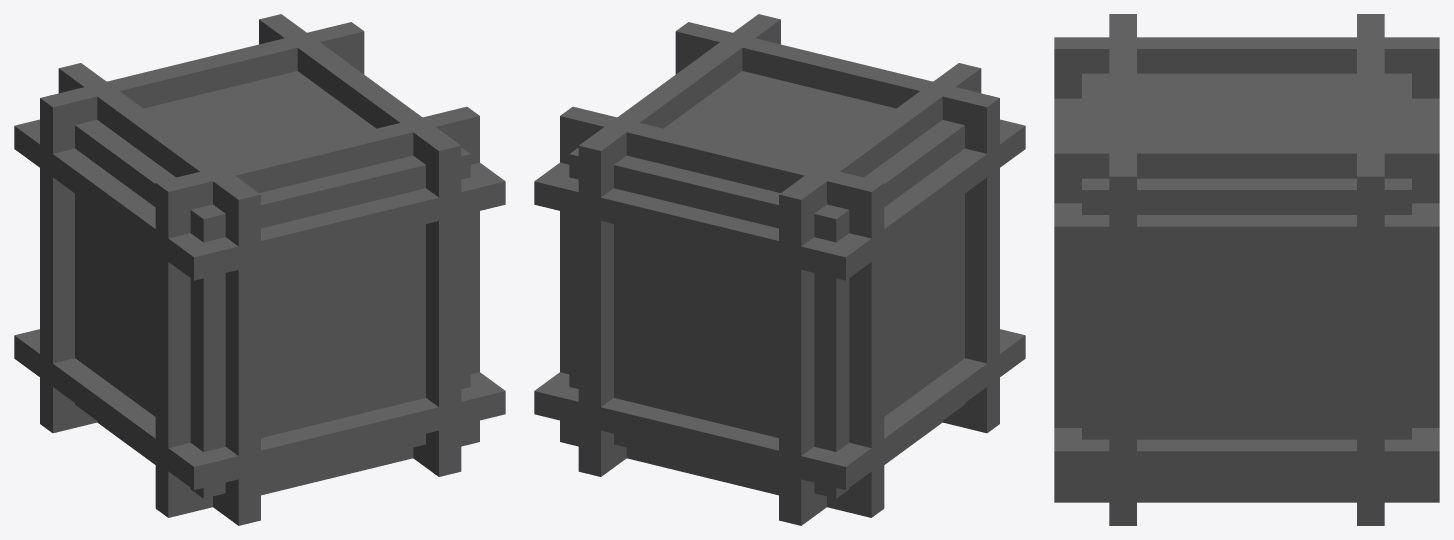
The model's file is ml_scalar_value_16.obj.
3 views of the same model, side by side, from view 1: azimuth 30°, elevation 25°; view 2: azimuth 150°, elevation 25°; view 3: azimuth 270°, elevation 25° (orthographic). The views are drawn at different scales.
Visible parts, largest first — view 1: ml_scalar_value_16.001; view 2: ml_scalar_value_16.001; view 3: ml_scalar_value_16.001.
Boxes of the visible parts, x1,y1,x2,y2 form: ml_scalar_value_16.001: (14, 14, 505, 525); ml_scalar_value_16.001: (534, 14, 1025, 525); ml_scalar_value_16.001: (1054, 14, 1439, 525).
Size of the model in its own units: 0.7 by 0.7 by 0.7.
